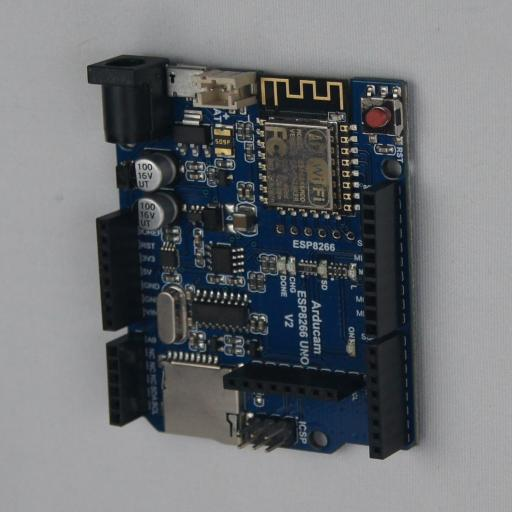Arduino Uno Camera Shield: (87, 54, 423, 460)
